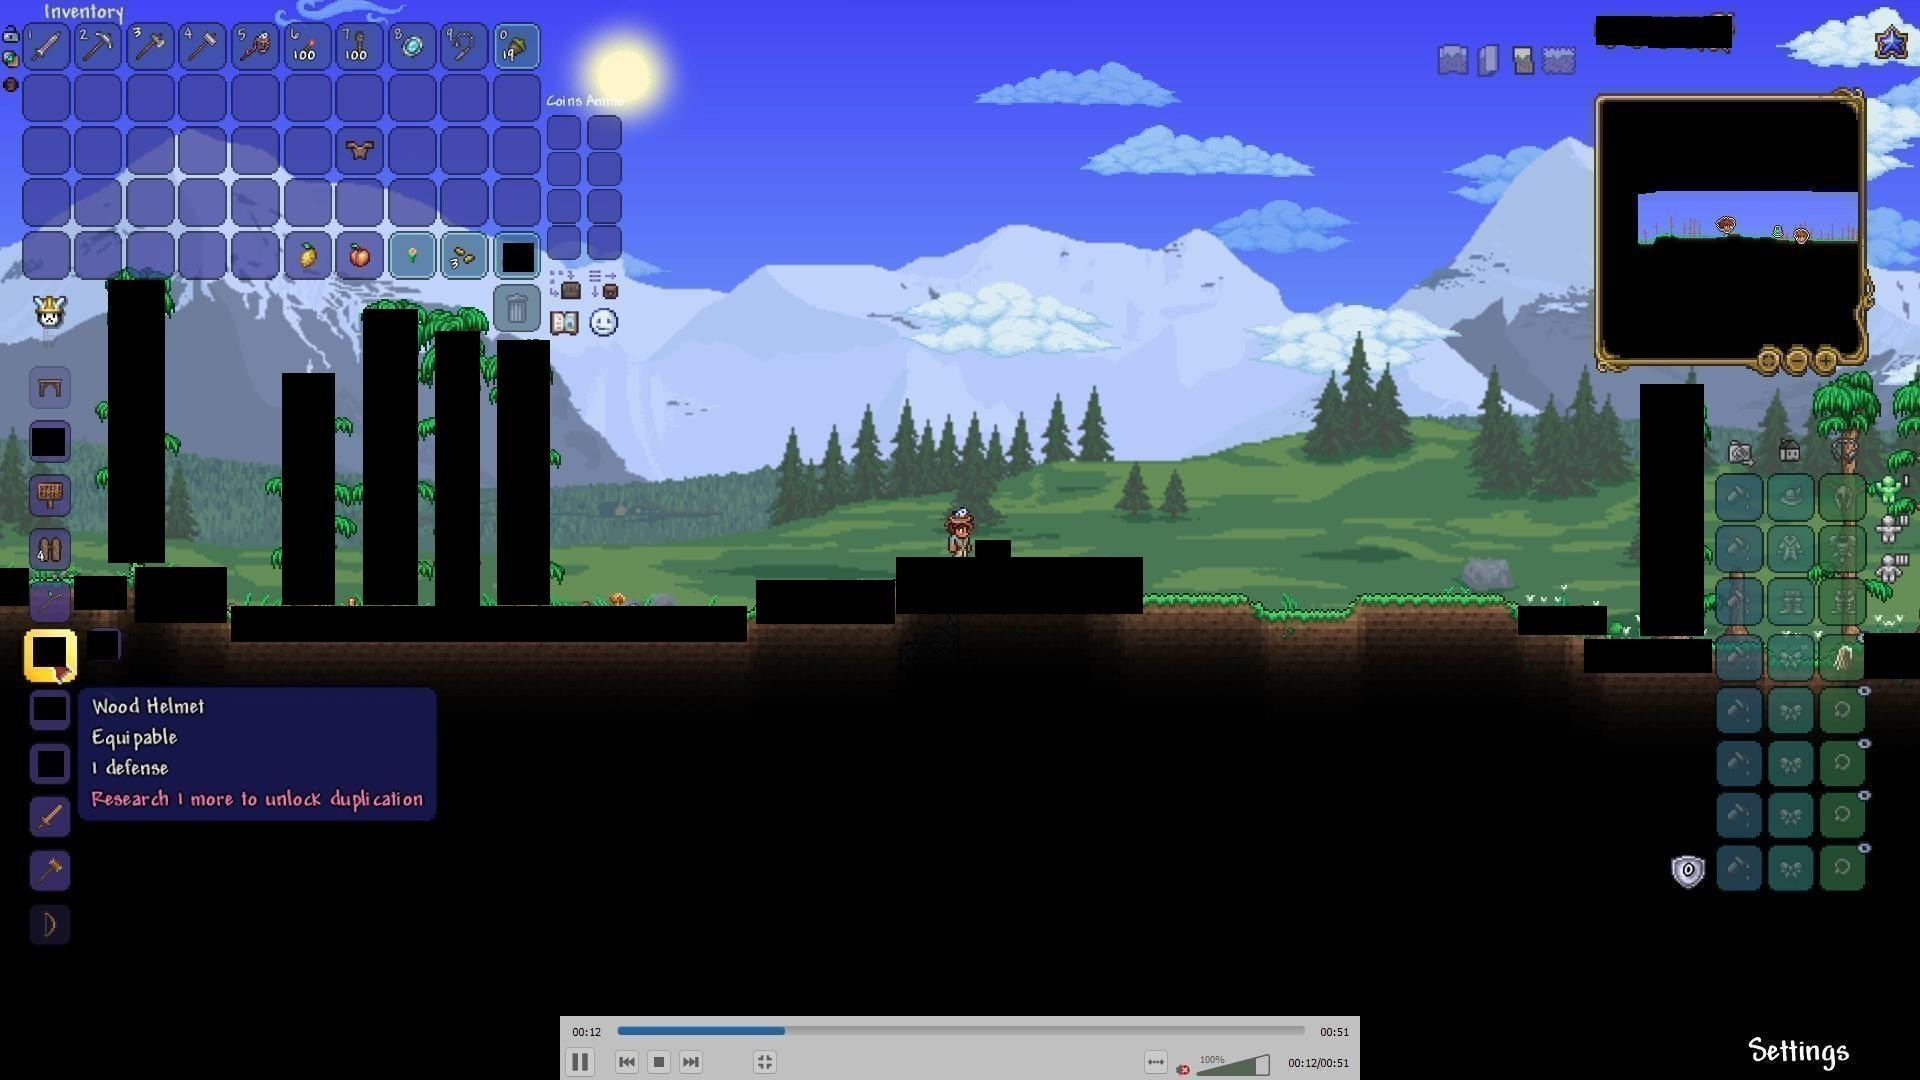breastplate: (342, 135, 378, 167)
dirt: (1146, 593, 1514, 637)
